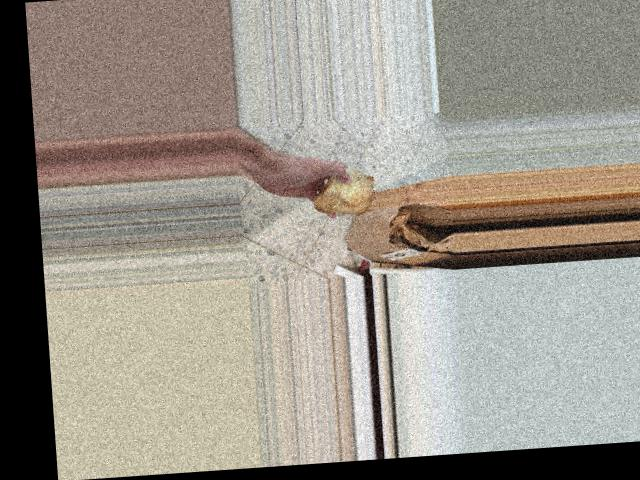onion: (306, 164, 379, 220)
